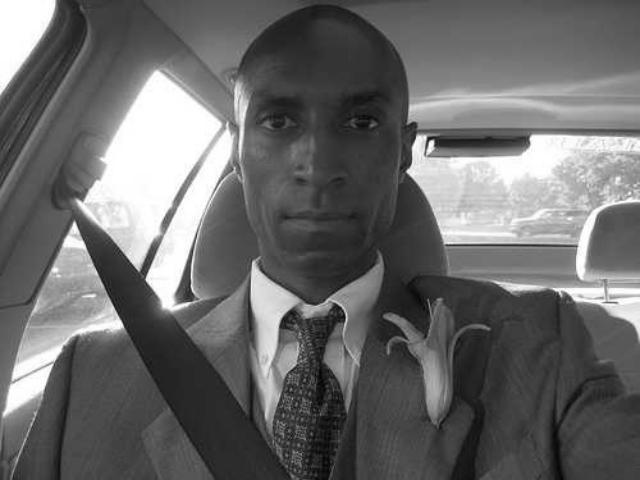SafeDriving: (252, 100, 306, 140), (332, 101, 386, 136)
Seatbelt: (49, 140, 299, 480)
